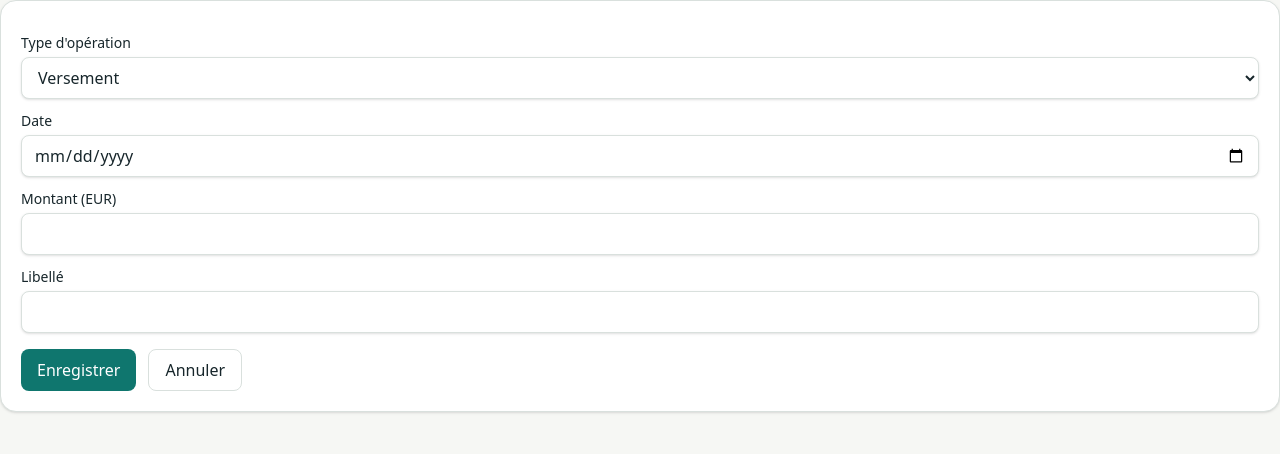
Test: validation locale › exige une date
The image size is (1280, 454).
Type "10" into the field labelled "Montant (EUR)". click: (640, 234)
box: [21, 213, 1259, 255]
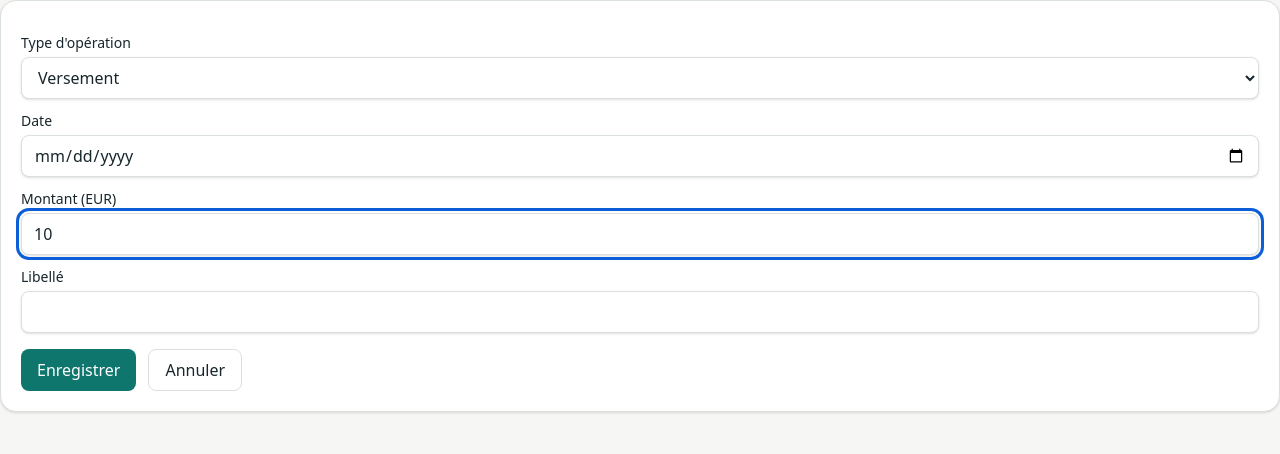
Click the button "Enregistrer". click: (79, 370)
box: [21, 349, 136, 391]
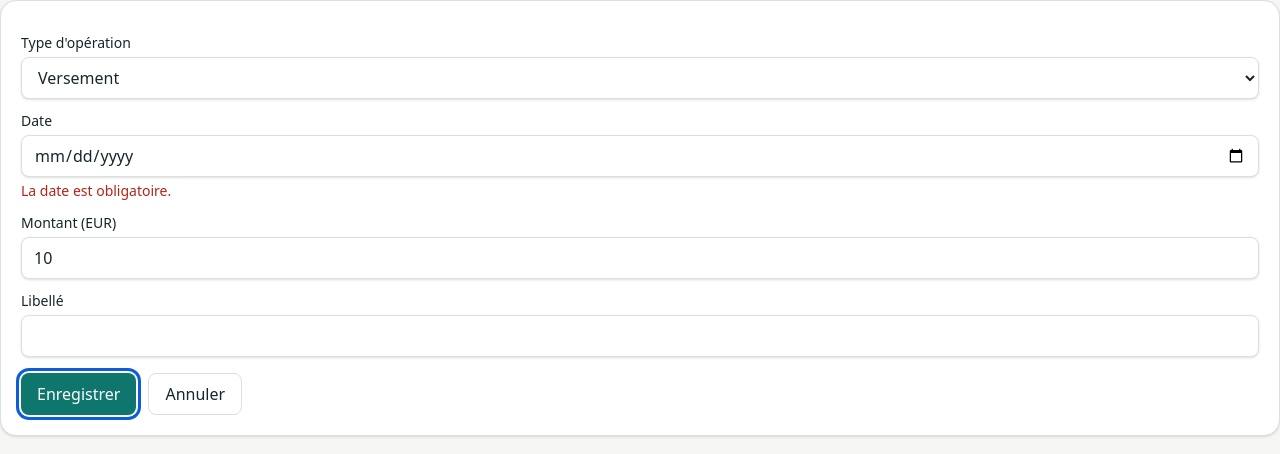
Check: the text "La date est obligatoire." is shown, box [21, 181, 171, 200]
